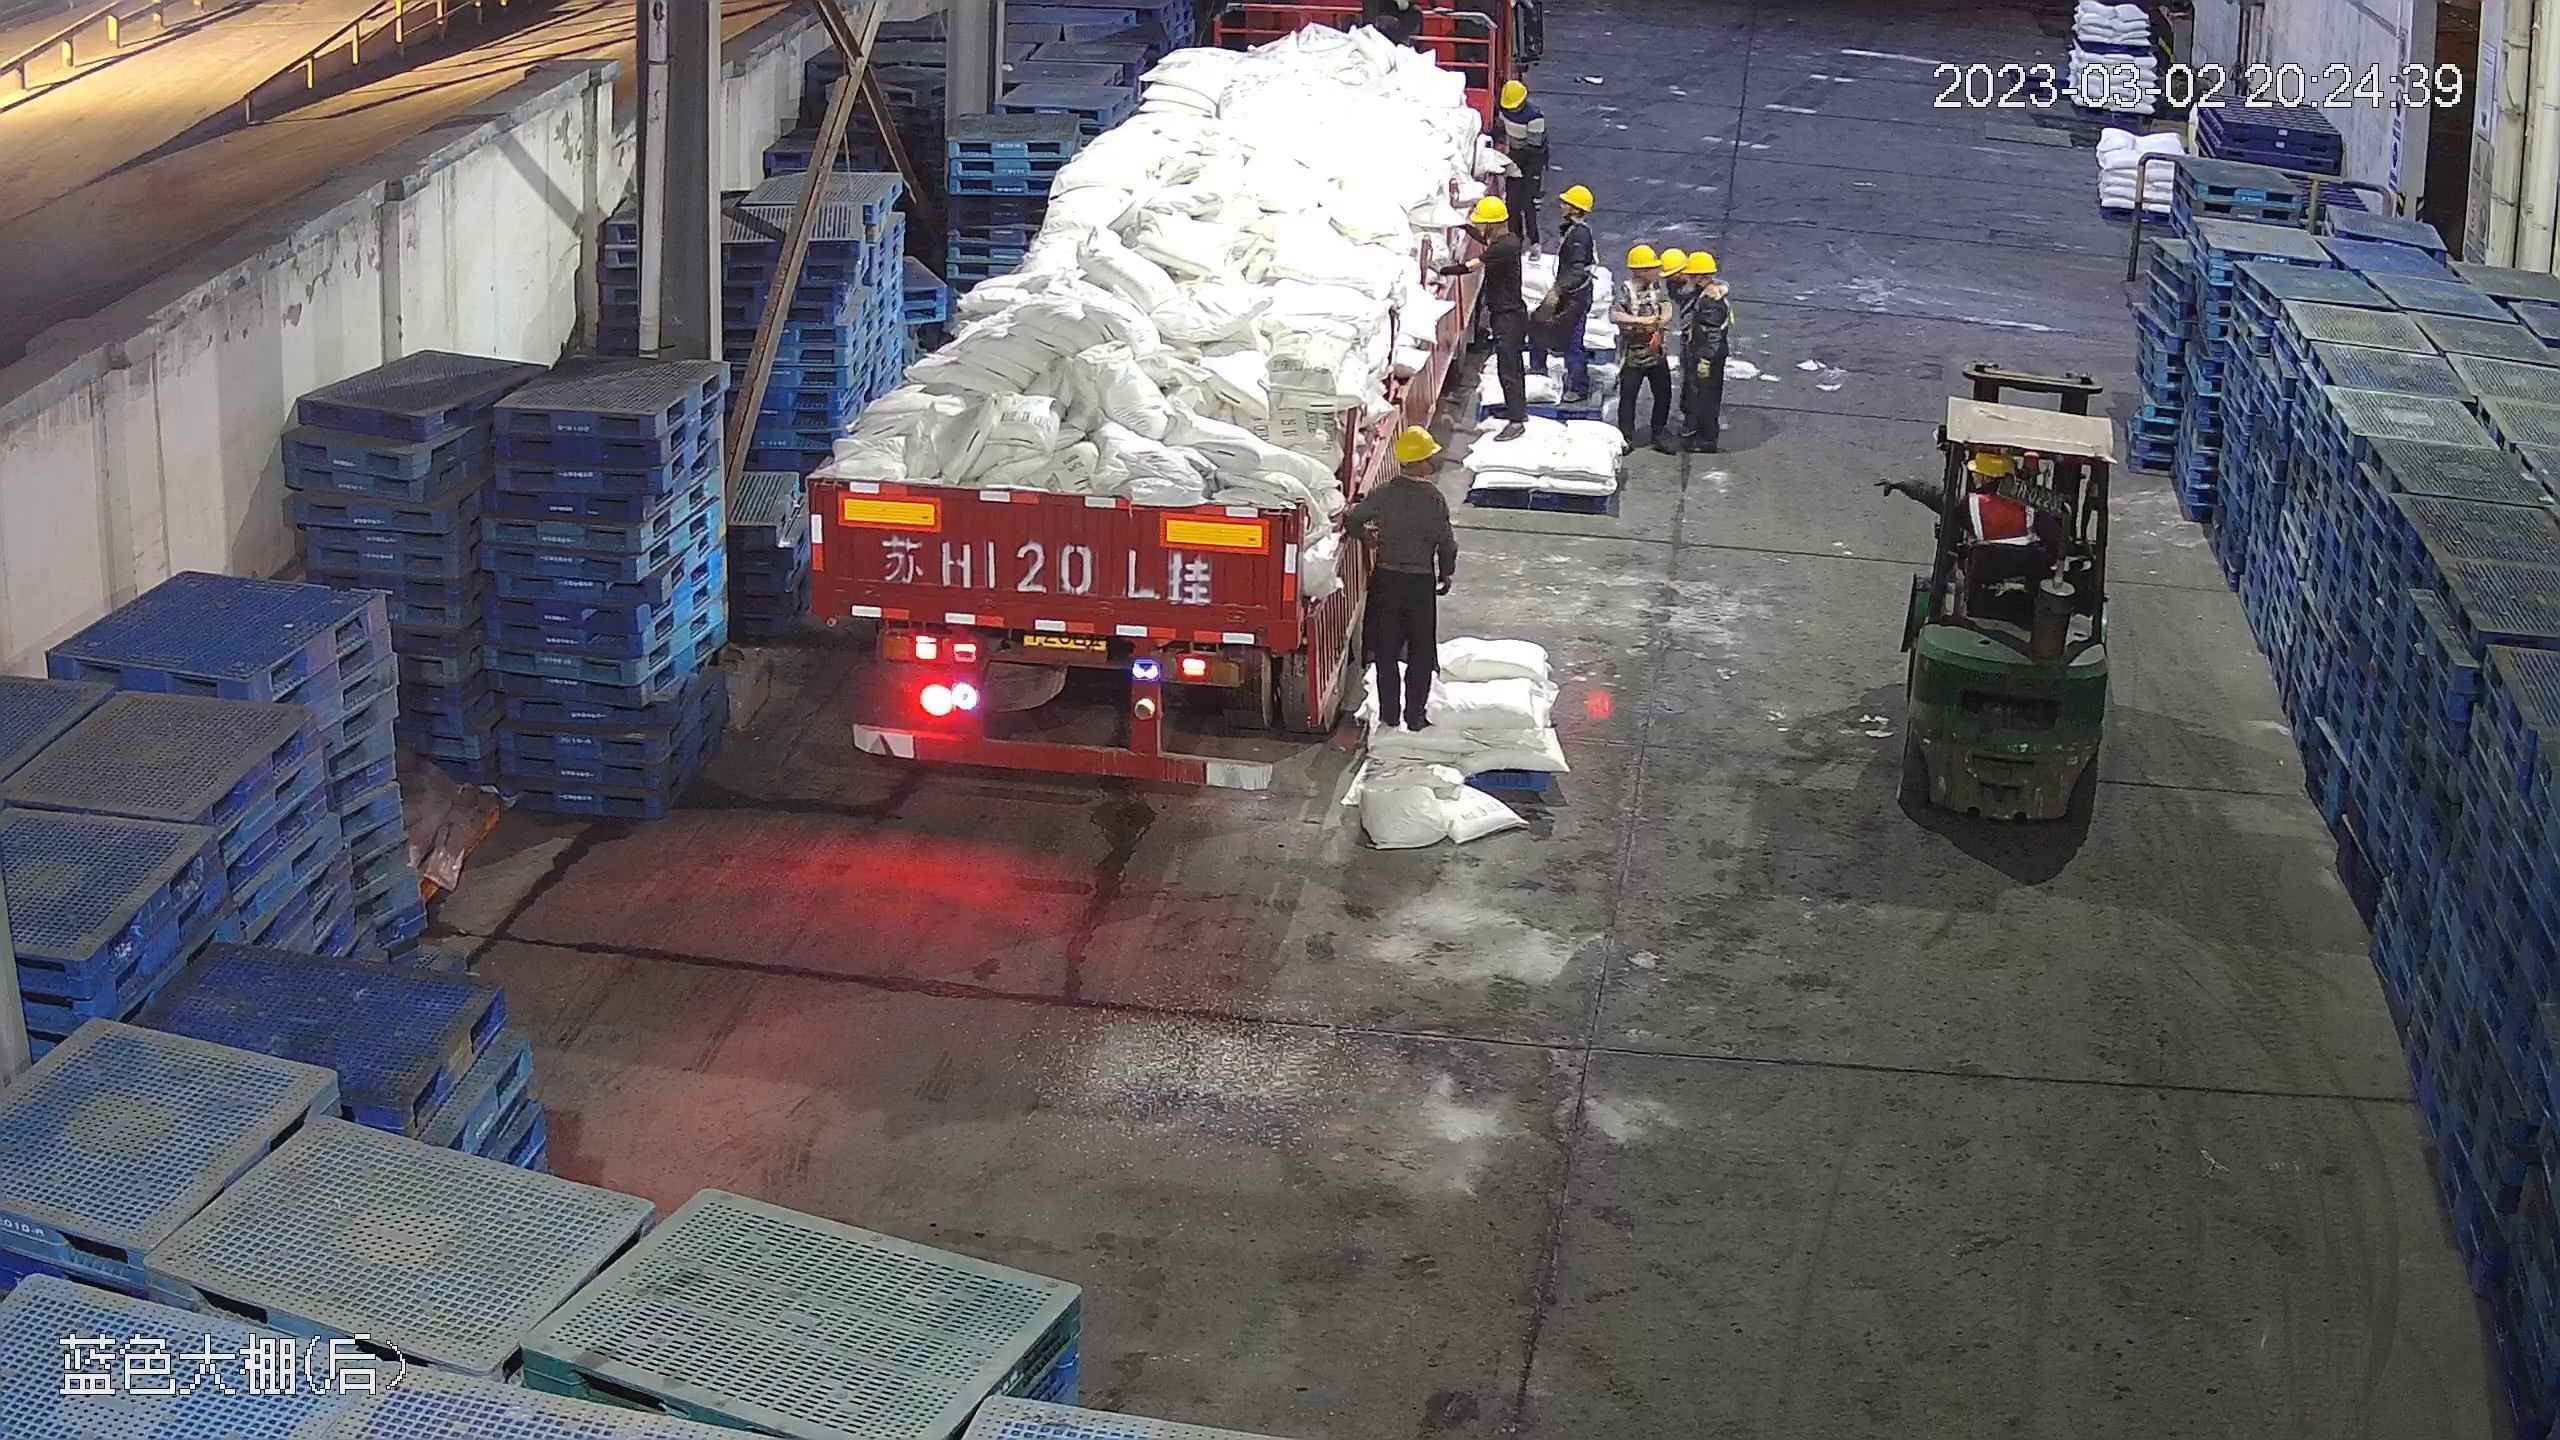belt: (1557, 214, 1599, 259), (1621, 281, 1660, 317)
head: (1353, 422, 1453, 529), (1466, 190, 1525, 274), (1672, 251, 1732, 328), (1490, 77, 1549, 147), (1613, 242, 1671, 310), (1553, 184, 1598, 257)
helmet: (1389, 421, 1441, 462), (1470, 192, 1513, 223), (1675, 246, 1715, 272), (1657, 242, 1685, 277), (1621, 242, 1659, 267), (1560, 184, 1595, 209), (1499, 77, 1529, 106)
people: (1339, 420, 1457, 736), (1450, 186, 1533, 442), (1607, 236, 1679, 456), (1669, 250, 1739, 469), (1542, 181, 1600, 410), (1490, 77, 1555, 253)
truck: (796, 7, 1504, 793)
